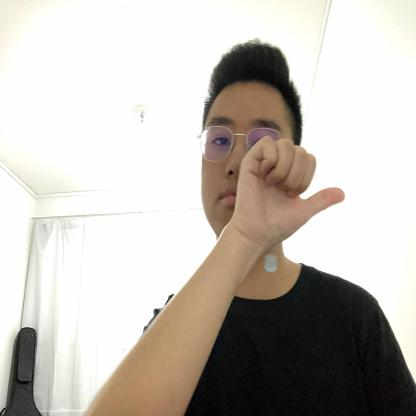left: (233, 135, 346, 251)
